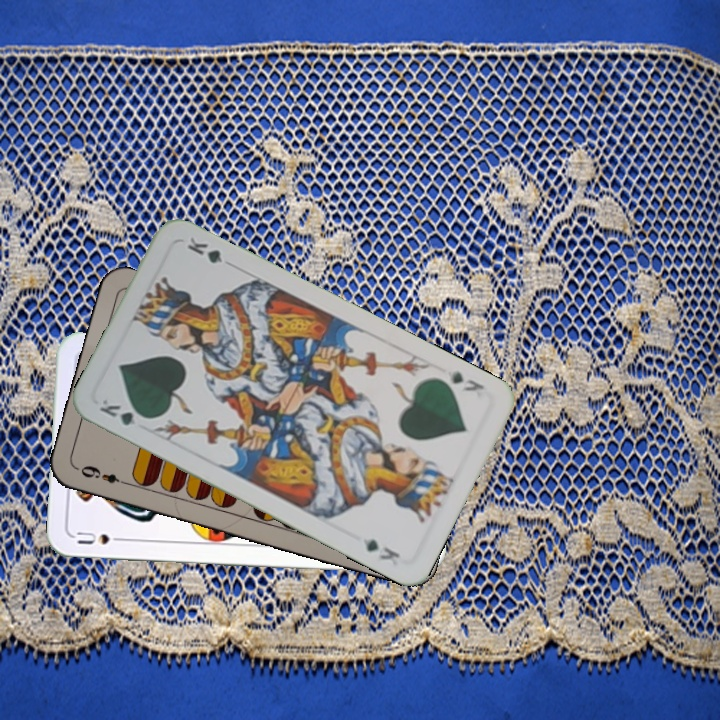E9: (76, 461, 131, 488)
GK: (95, 395, 152, 428), (442, 367, 488, 395)
SU: (72, 527, 130, 547)
